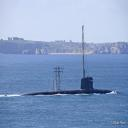submarine: (20, 77, 124, 97)
